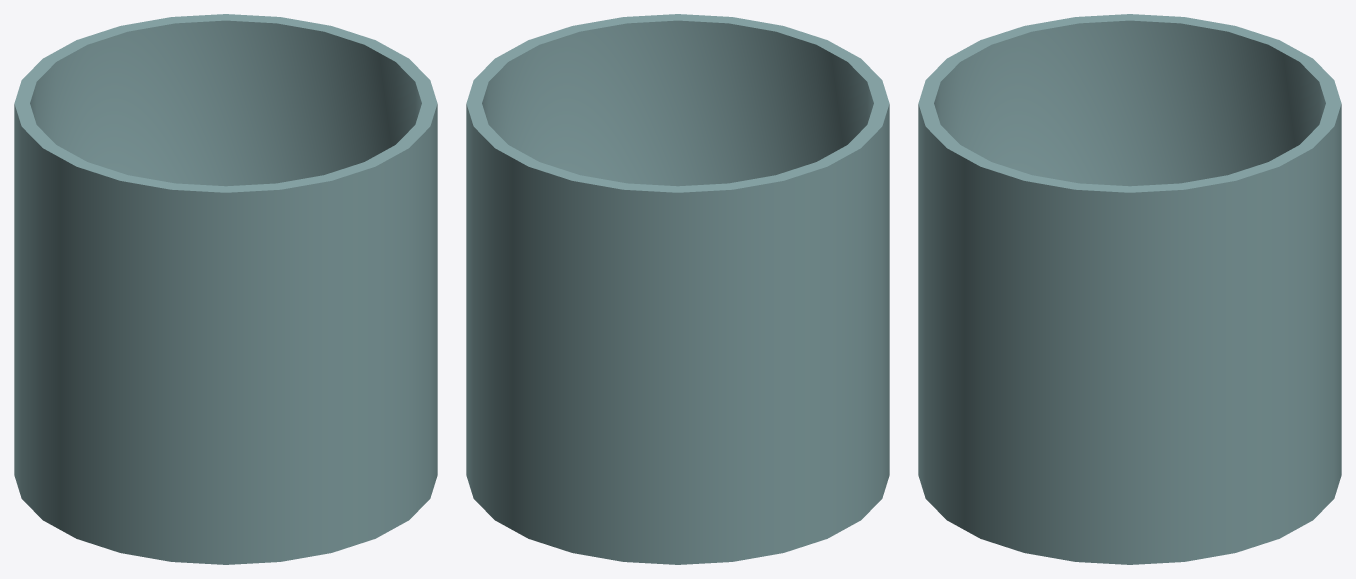
The model's file is S_cup_empty.fbx.
3 views of the same model, side by side, from view 1: azimuth 30°, elevation 25°; view 2: azimuth 150°, elevation 25°; view 3: azimuth 270°, elevation 25° (orthographic).
Visible parts, largest first — view 1: S_cup_empty_01; view 2: S_cup_empty_01; view 3: S_cup_empty_01.
Part boxes in pixels (bbox=[...]): S_cup_empty_01: bbox=[14, 14, 437, 564]; S_cup_empty_01: bbox=[466, 14, 889, 564]; S_cup_empty_01: bbox=[918, 14, 1341, 564].
Bounding box in the file's own units: 0.0459 × 0.0446 × 0.0459.
